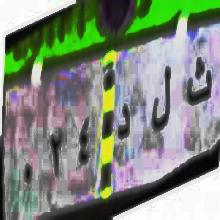0: (22, 157, 35, 195)
2: (49, 125, 66, 184)
4: (74, 116, 92, 178)
daal: (116, 101, 132, 150)
laam: (150, 64, 175, 136)
thaa: (180, 43, 213, 106)
